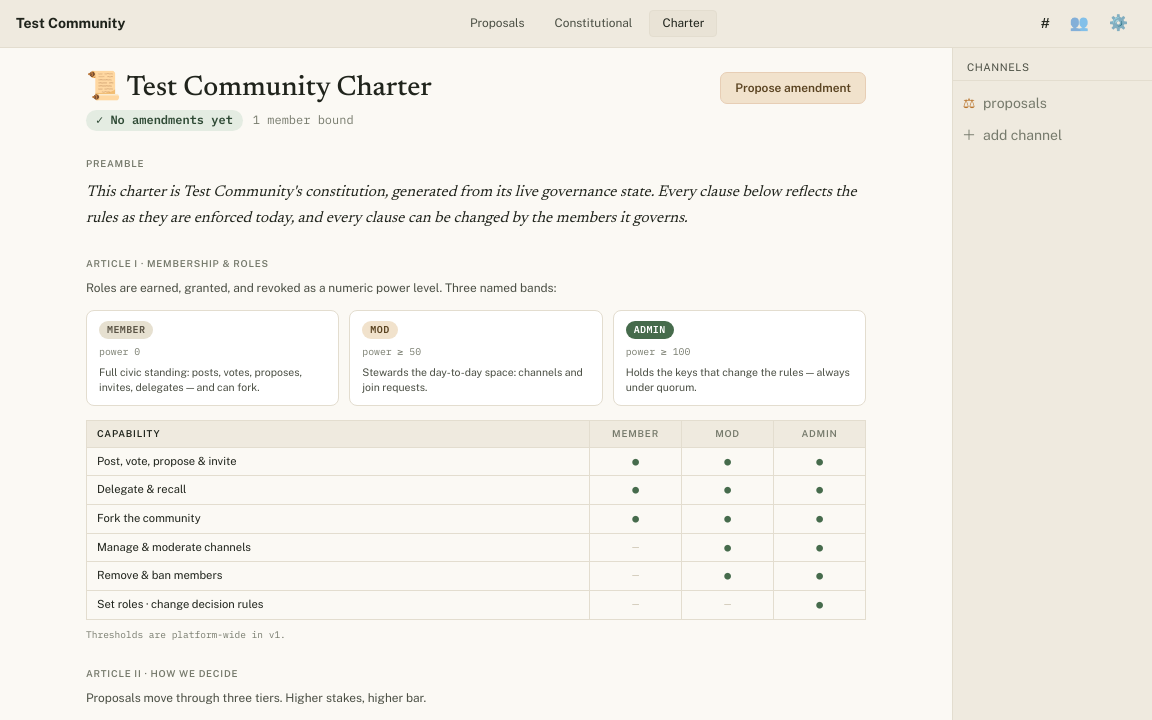
Test: CommunityView › Propose amendment switches the view to the Constitutional tab
Click the button "Propose amendment" at (793, 88), box [720,72,866,104]
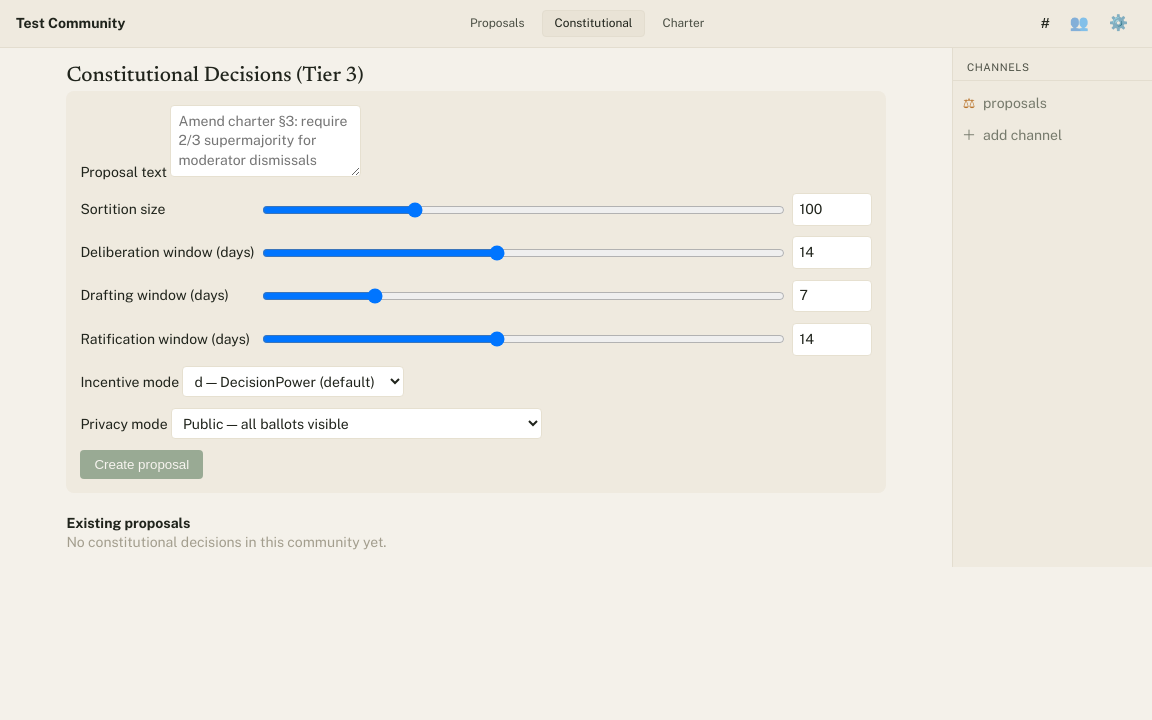
Expected: the element with class "tier3-panel" is shown, [52,48,900,567]
